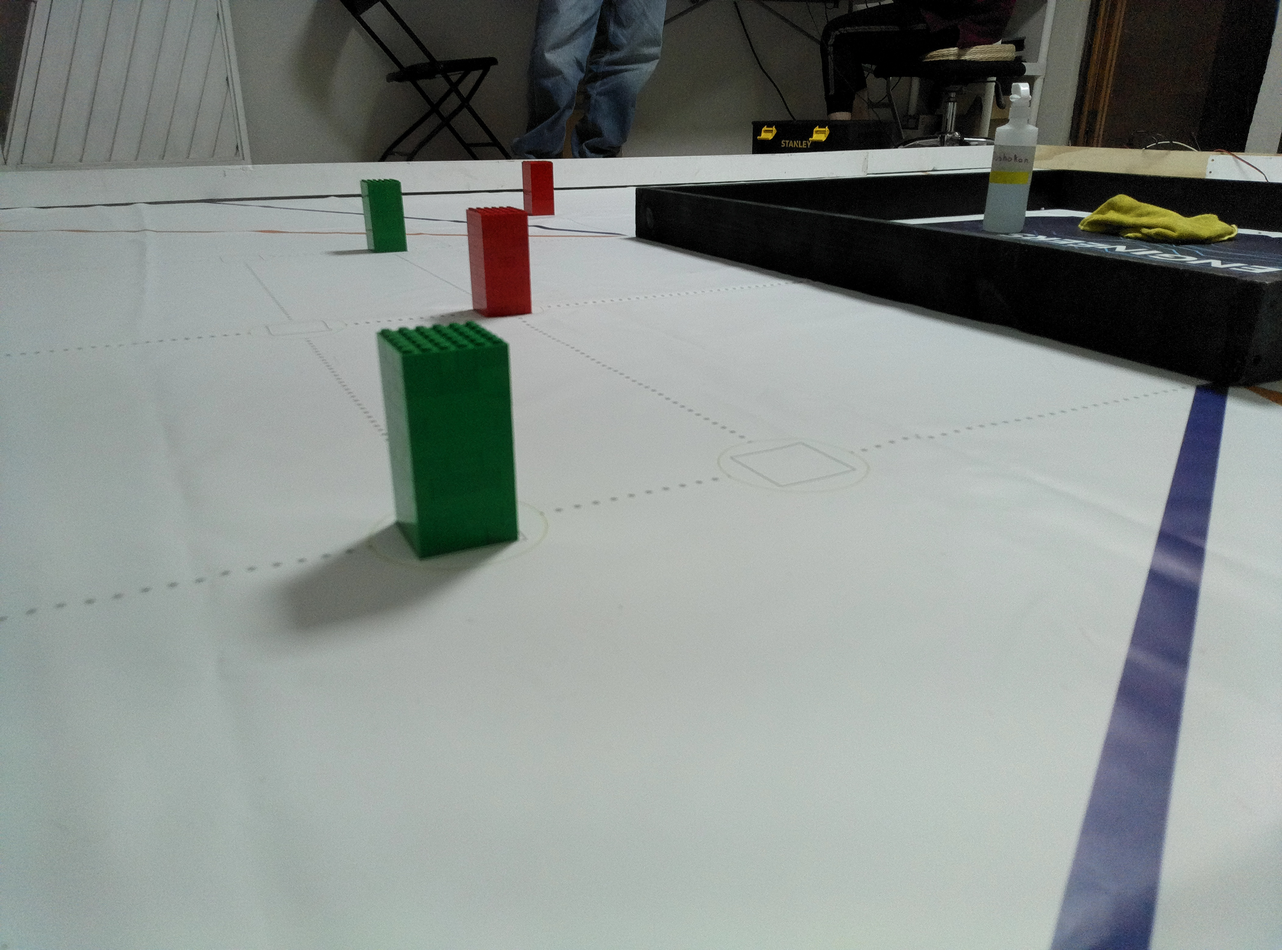greenbox: (374, 318, 521, 562), (360, 178, 409, 254)
redbox: (464, 206, 533, 317), (520, 159, 556, 218)
